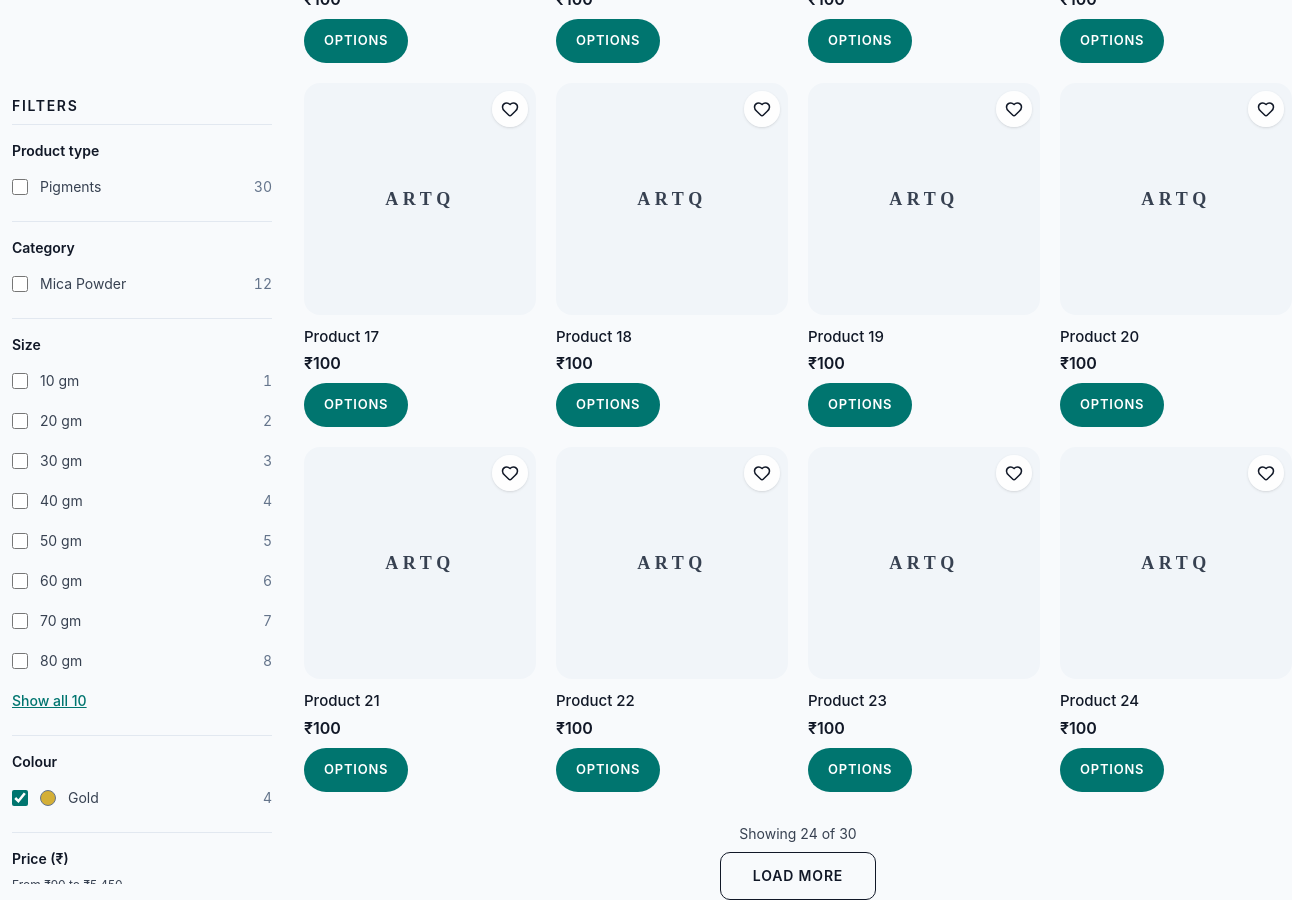
ListingView › Load more appends the next page with the same filters and records ?page= in the address
(page scrolled)
Expected: the text "Showing 24 of 30" is shown, [739,824,857,844]
Click the button "Load more". click: coordinates (798, 876)
box: [720,852,876,899]
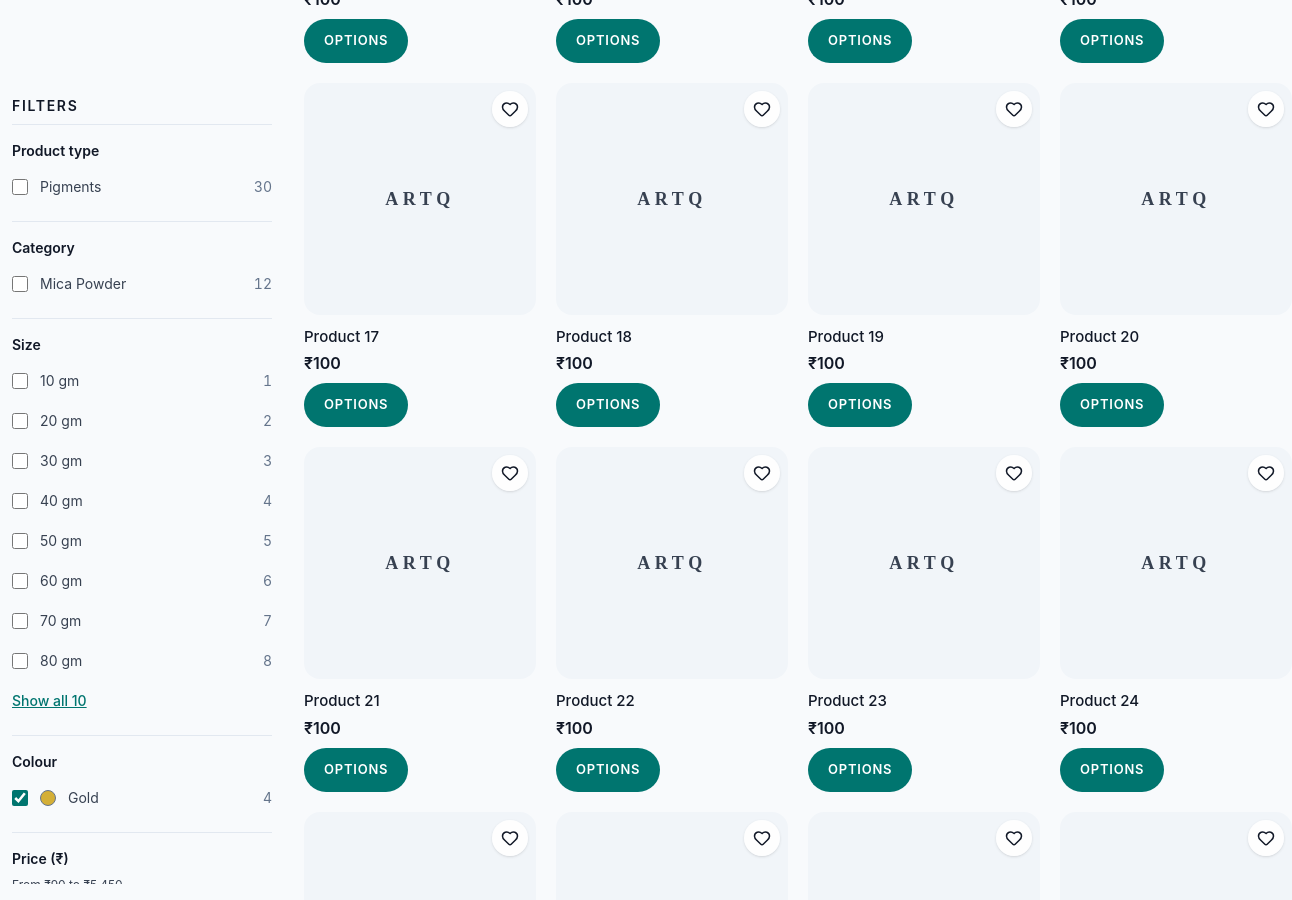
Expected: the button "Load more" is gone
